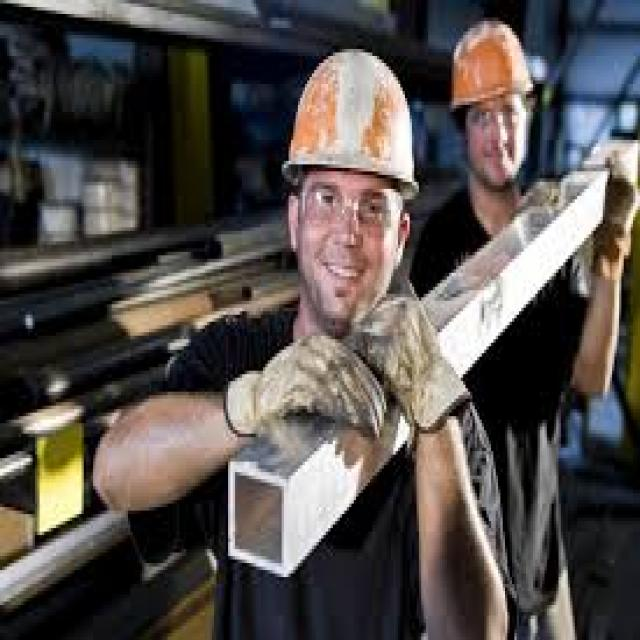Safety-Helmet: (279, 42, 422, 203), (444, 17, 540, 119)
